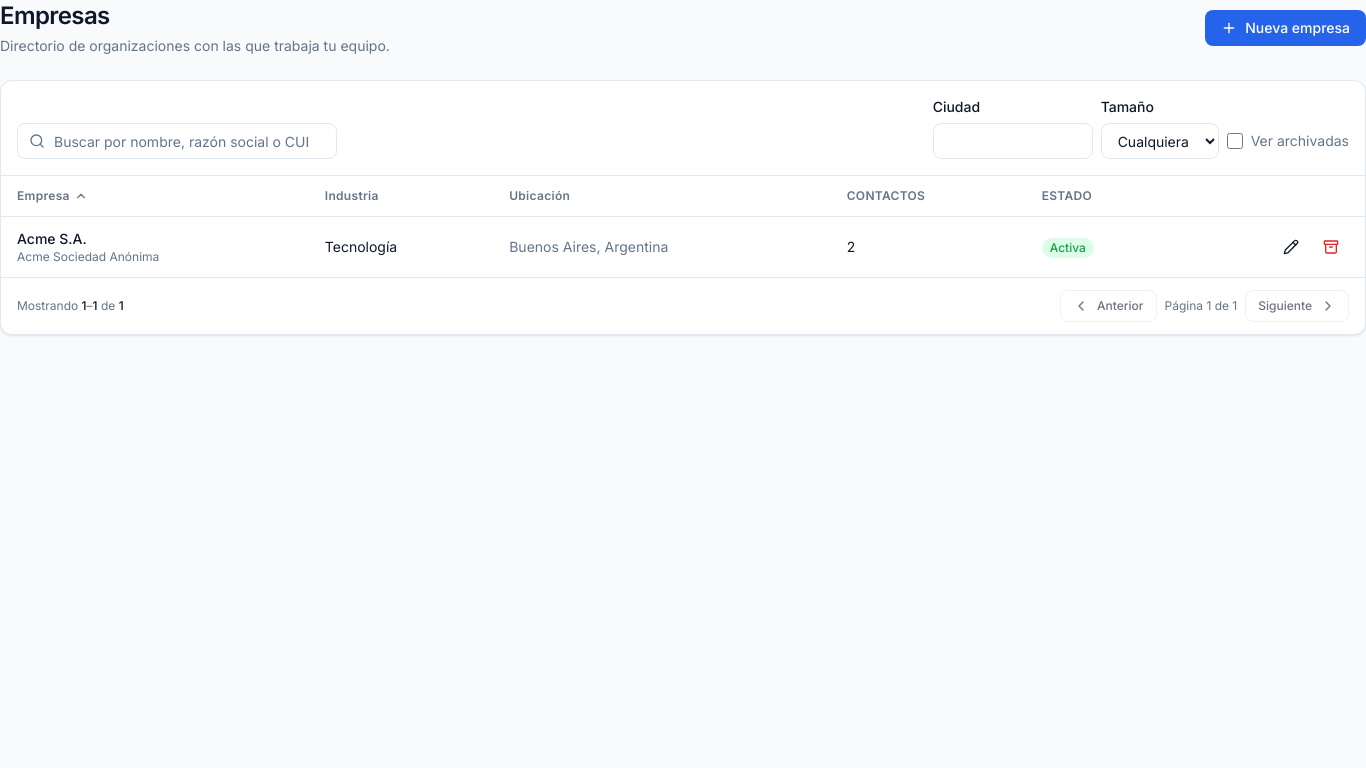
it: CompaniesPage › pide confirmación antes de archivar
Step 1. Click the button named "Archivar Acme S.A." → (1331, 247), box [1313,229,1349,265]
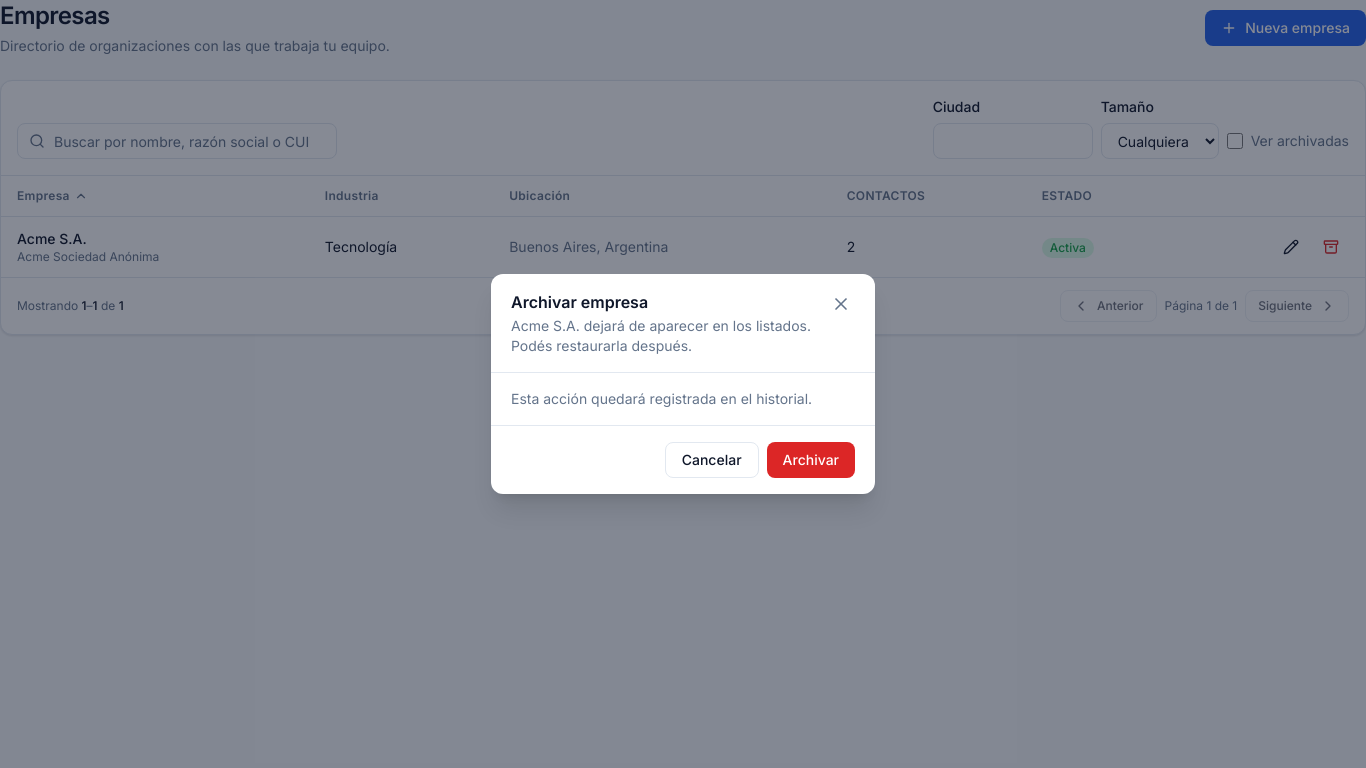
Expected: the dialog shows "Archivar empresa", [511,292,648,312]
